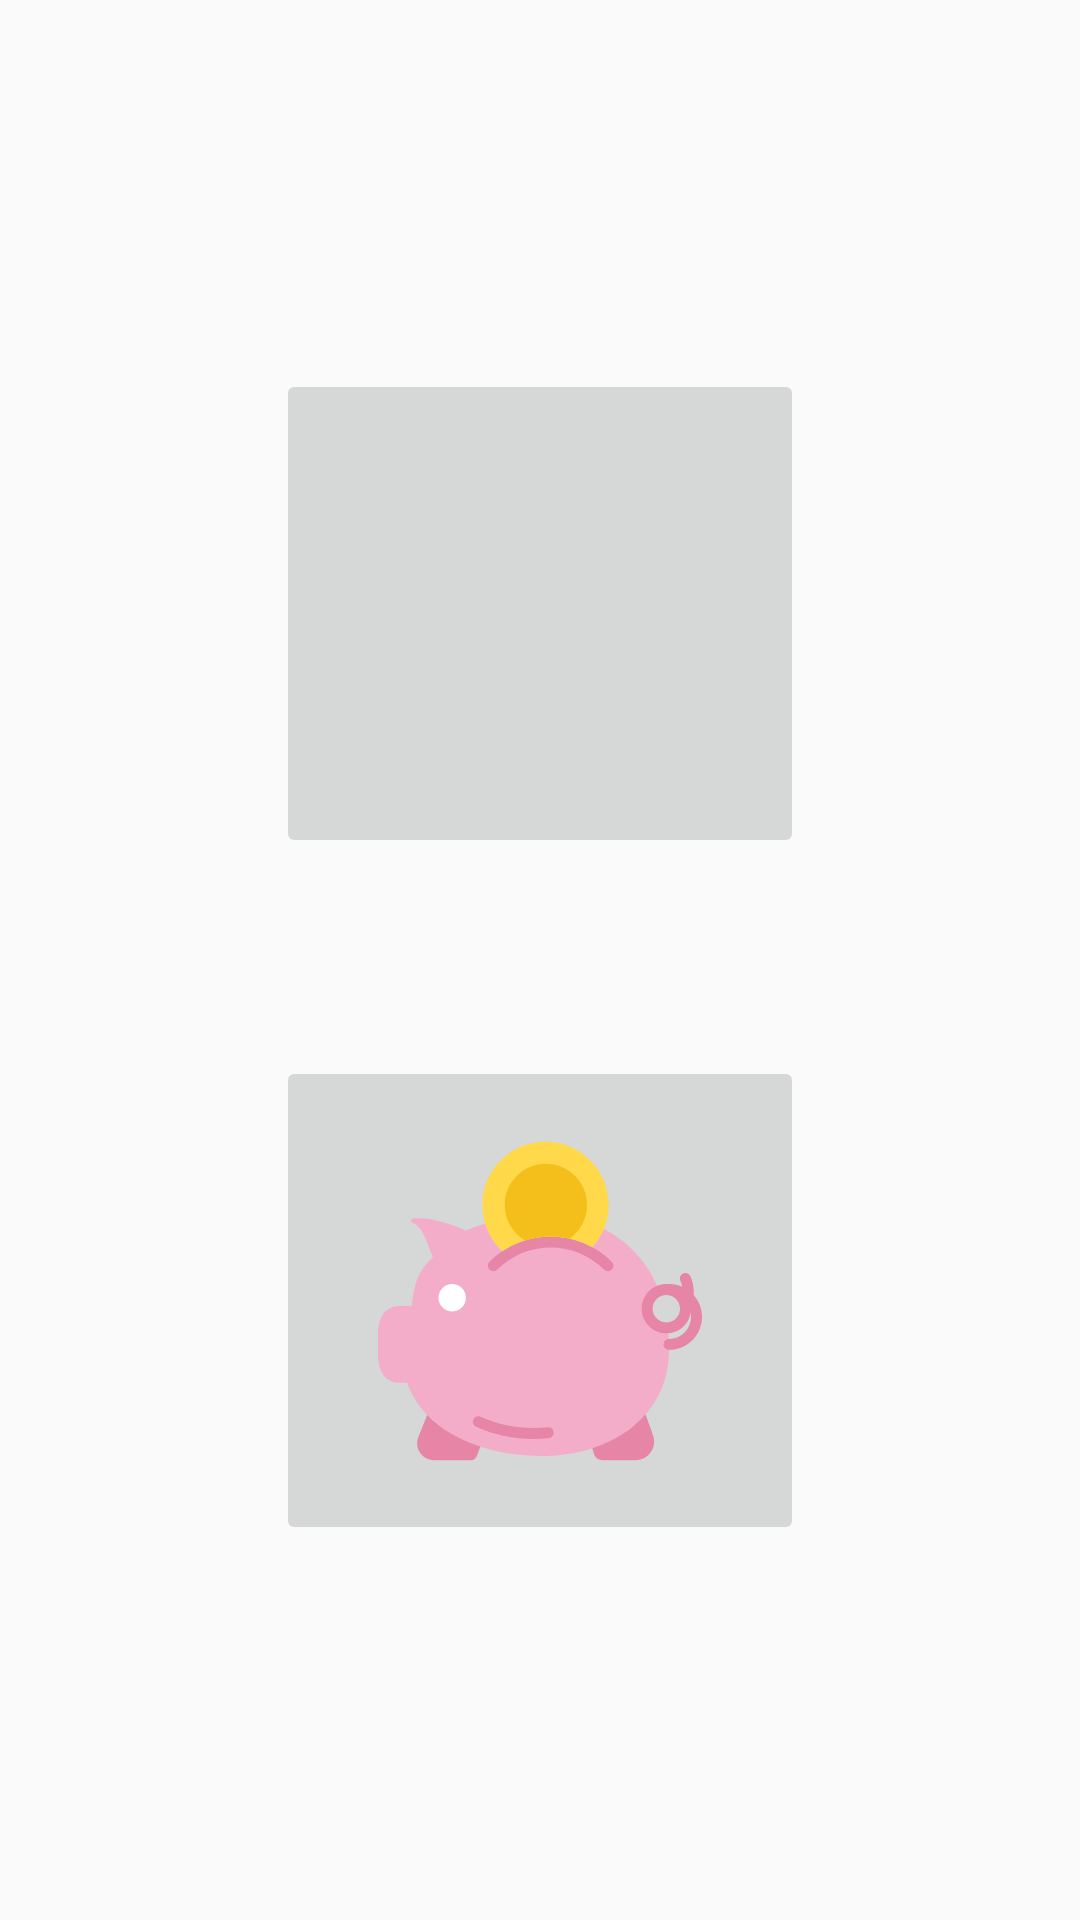

Named icons in this screenshot (1080*1920) and their centers, [x,y]:
money: [540,1300]
